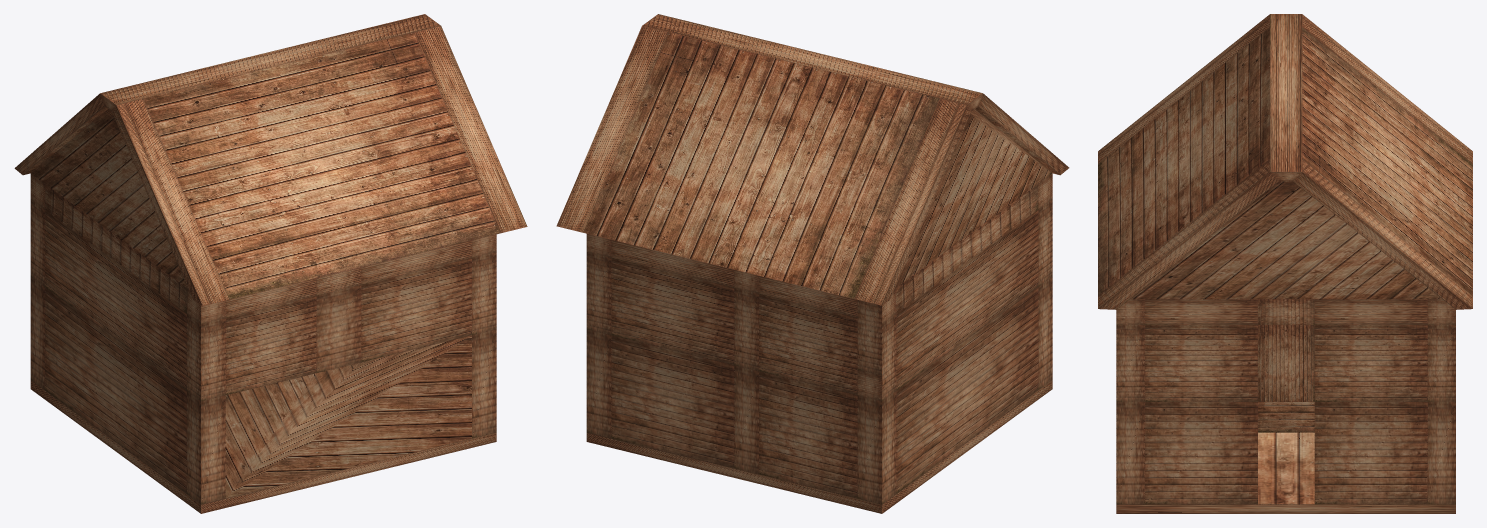
File: house.fbx
The picture shows the model from 3 angles, left to right: view 1: azimuth 30°, elevation 25°; view 2: azimuth 150°, elevation 25°; view 3: azimuth 270°, elevation 25°; orthographic projection.
Visible parts, largest first — view 1: Plane; view 2: Plane; view 3: Plane.
Boxes of the visible parts, box(x1,y1,x2,y2) form: Plane: box(14, 14, 527, 513); Plane: box(556, 14, 1069, 513); Plane: box(1098, 14, 1472, 513).
Bounding box in the file's own units: 1320 × 1375 × 1324.
